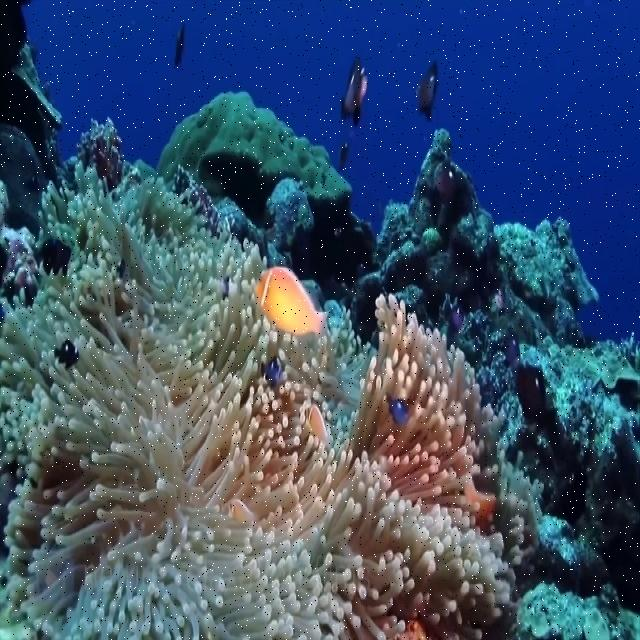aquatic plants: (156, 91, 348, 200)
fish: (256, 267, 333, 337), (339, 61, 366, 130), (419, 63, 441, 125)
reefs: (0, 156, 544, 639)
sea-floor: (175, 133, 639, 639)
